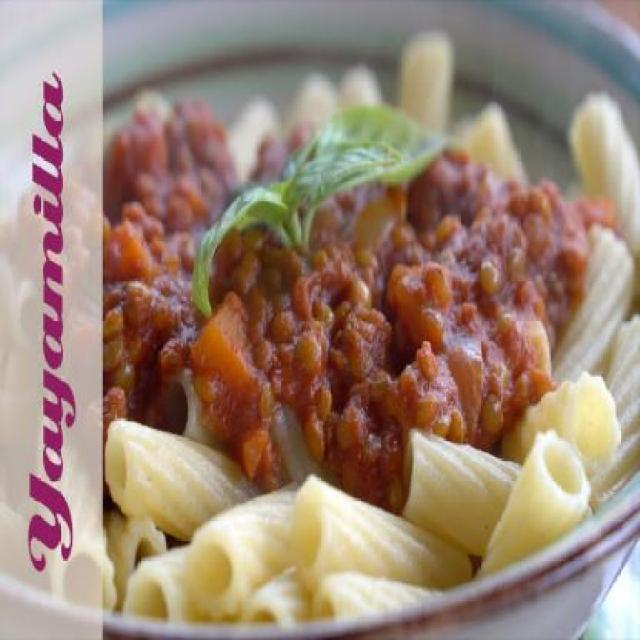Pasta al ragu: (109, 70, 632, 630)
